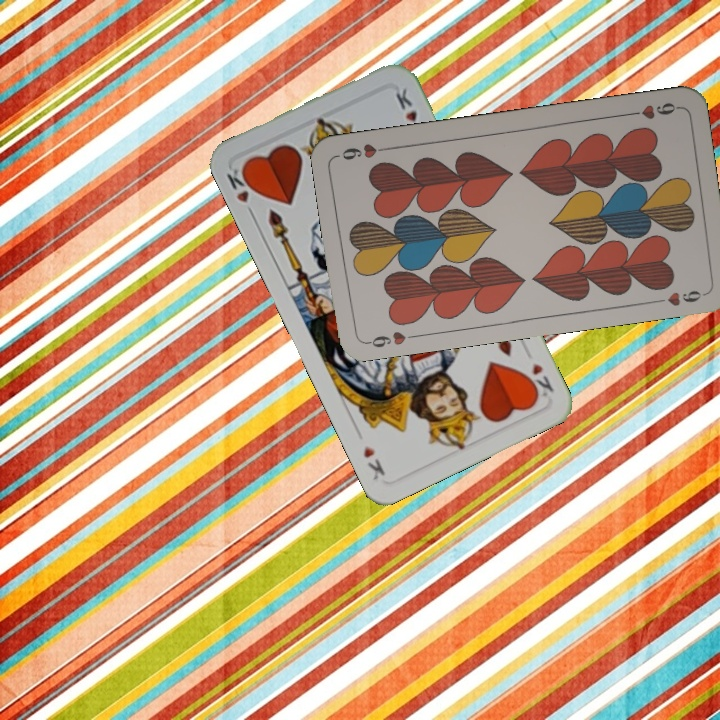H9: (622, 98, 681, 122), (361, 327, 420, 351)
HK: (222, 162, 259, 220), (522, 359, 557, 402)
